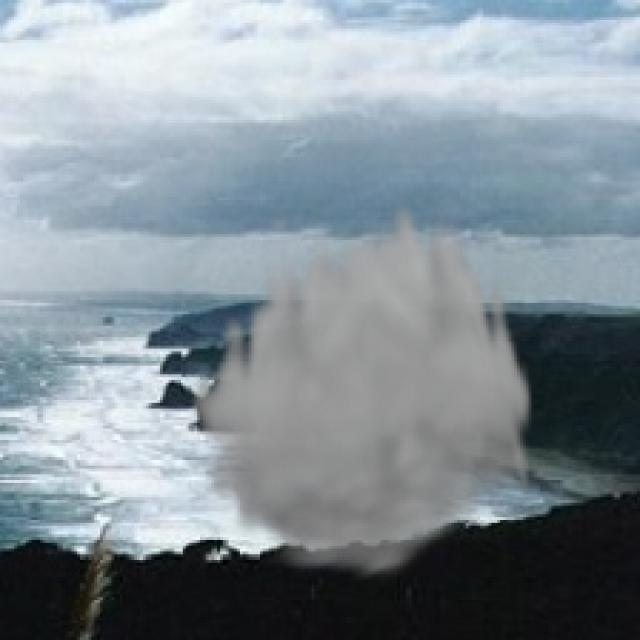Smoke: (185, 188, 538, 586)
